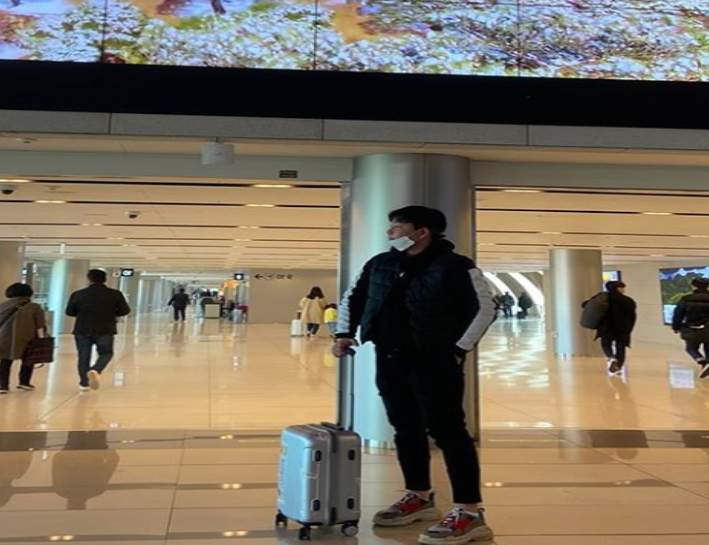mask_weared_incorrect: (381, 203, 443, 256)
